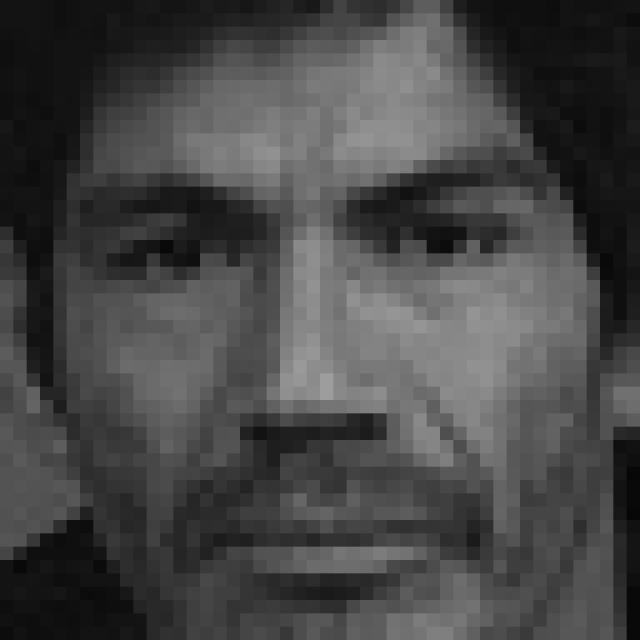neutral: (85, 146, 558, 608)
